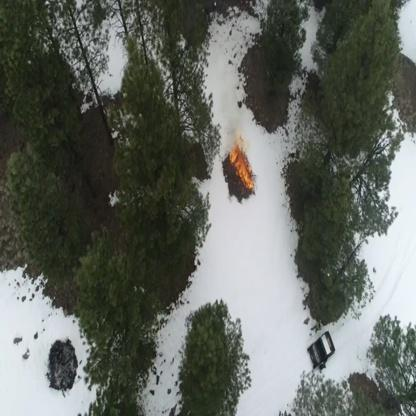Fire: (228, 134, 255, 192)
